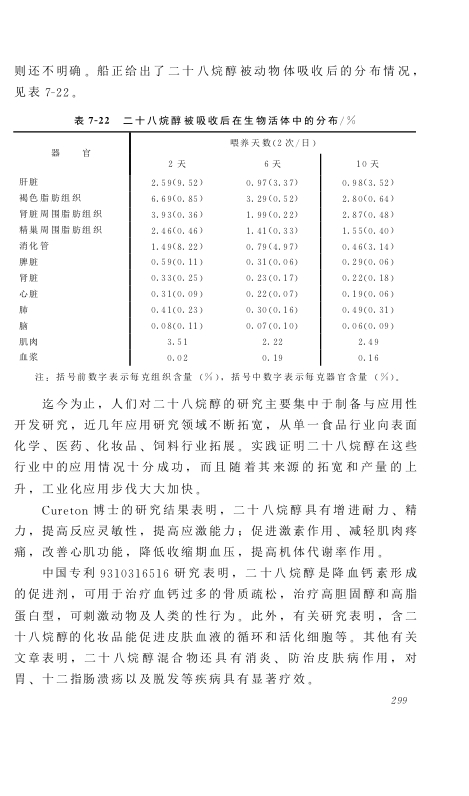table: (13, 131, 415, 365)
